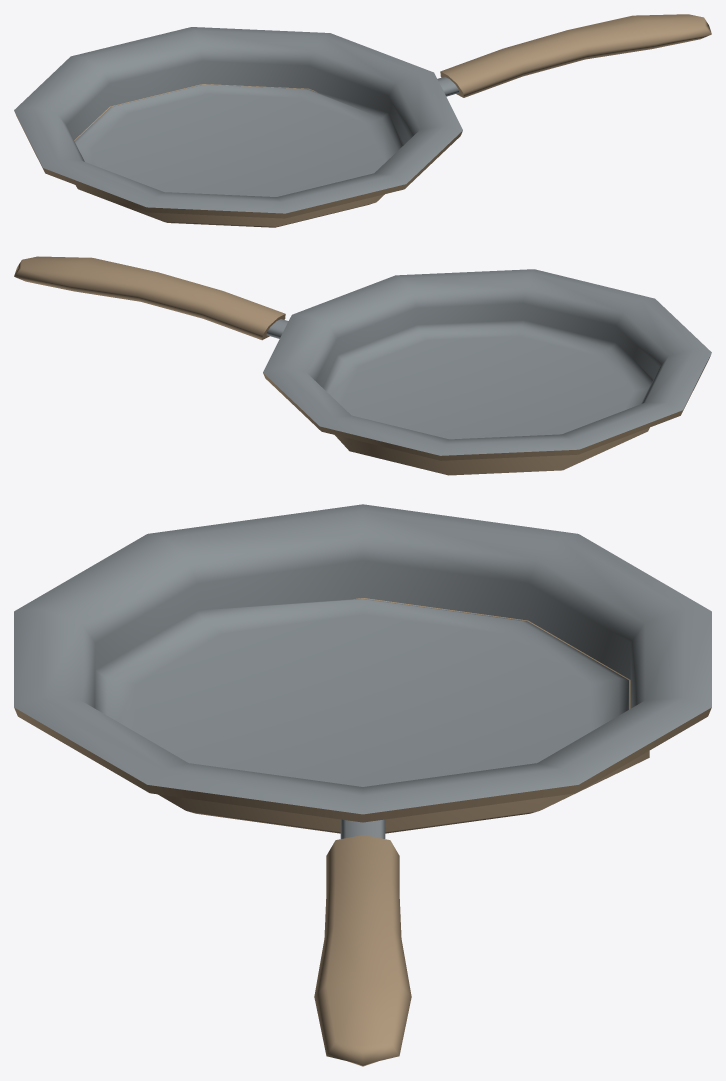
Rendered from SM_fryingPan_3.fbx.
3 renders of one model, top to bottom at view 1: azimuth 30°, elevation 25°; view 2: azimuth 150°, elevation 25°; view 3: azimuth 270°, elevation 25°, orthographic. The views are drawn at different scales.
Visible parts, largest first — view 1: SM_fryingPan_3; view 2: SM_fryingPan_3; view 3: SM_fryingPan_3.
Boxes of the visible parts, left/top/right/bottom form: SM_fryingPan_3: left=14, top=14, right=711, bottom=227; SM_fryingPan_3: left=14, top=256, right=711, bottom=475; SM_fryingPan_3: left=14, top=504, right=711, bottom=1066.
Size of the model in its own units: 75.77 by 4.5 by 42.32.
